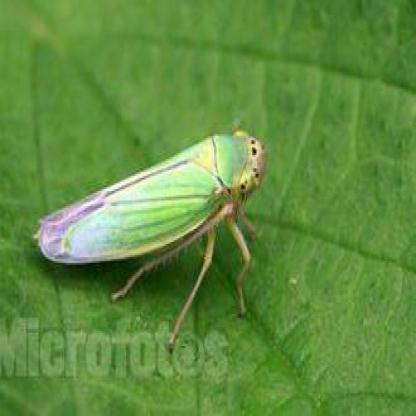Green-Leafhopper: (39, 118, 267, 341)
